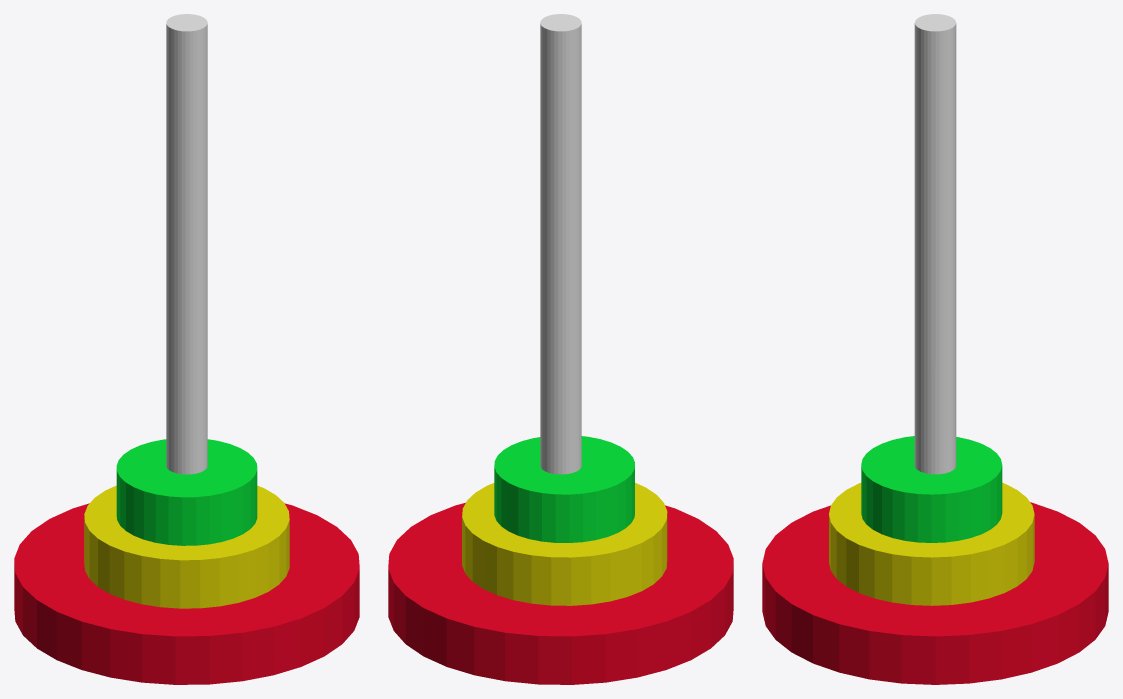
Rendered from Towers of Hanoi 3 ring top second fourth.fbx.
3 renders of one model, left to right at view 1: azimuth 30°, elevation 25°; view 2: azimuth 150°, elevation 25°; view 3: azimuth 270°, elevation 25°, orthographic.
Visible parts, largest first — view 1: Cylinder.001, Cylinder, Cylinder.003, Cylinder.004; view 2: Cylinder.001, Cylinder, Cylinder.003, Cylinder.004; view 3: Cylinder.001, Cylinder, Cylinder.003, Cylinder.004.
Part boxes in pixels (left/top/right/bottom): Cylinder.001: left=14, top=503, right=359, bottom=684; Cylinder: left=166, top=14, right=207, bottom=474; Cylinder.003: left=84, top=485, right=289, bottom=608; Cylinder.004: left=116, top=439, right=257, bottom=545; Cylinder.001: left=388, top=502, right=733, bottom=684; Cylinder: left=540, top=14, right=581, bottom=474; Cylinder.003: left=462, top=482, right=667, bottom=605; Cylinder.004: left=494, top=436, right=634, bottom=542; Cylinder.001: left=762, top=502, right=1108, bottom=684; Cylinder: left=914, top=14, right=956, bottom=474; Cylinder.003: left=829, top=482, right=1034, bottom=605; Cylinder.004: left=861, top=436, right=1002, bottom=542.
Bounding box in the file's own units: 270 × 506 × 270.
